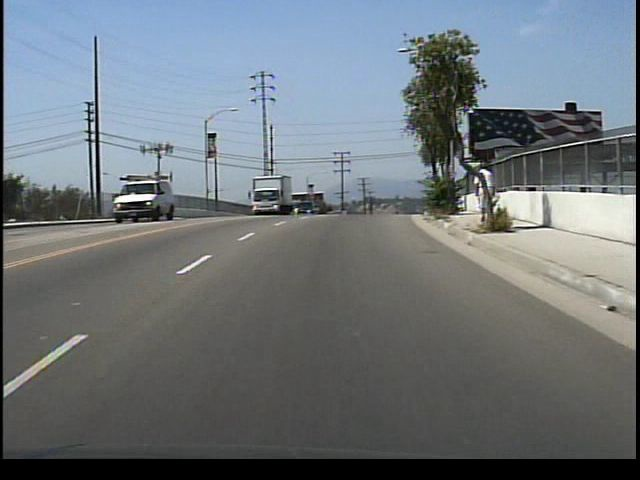person: (475, 160, 501, 226)
